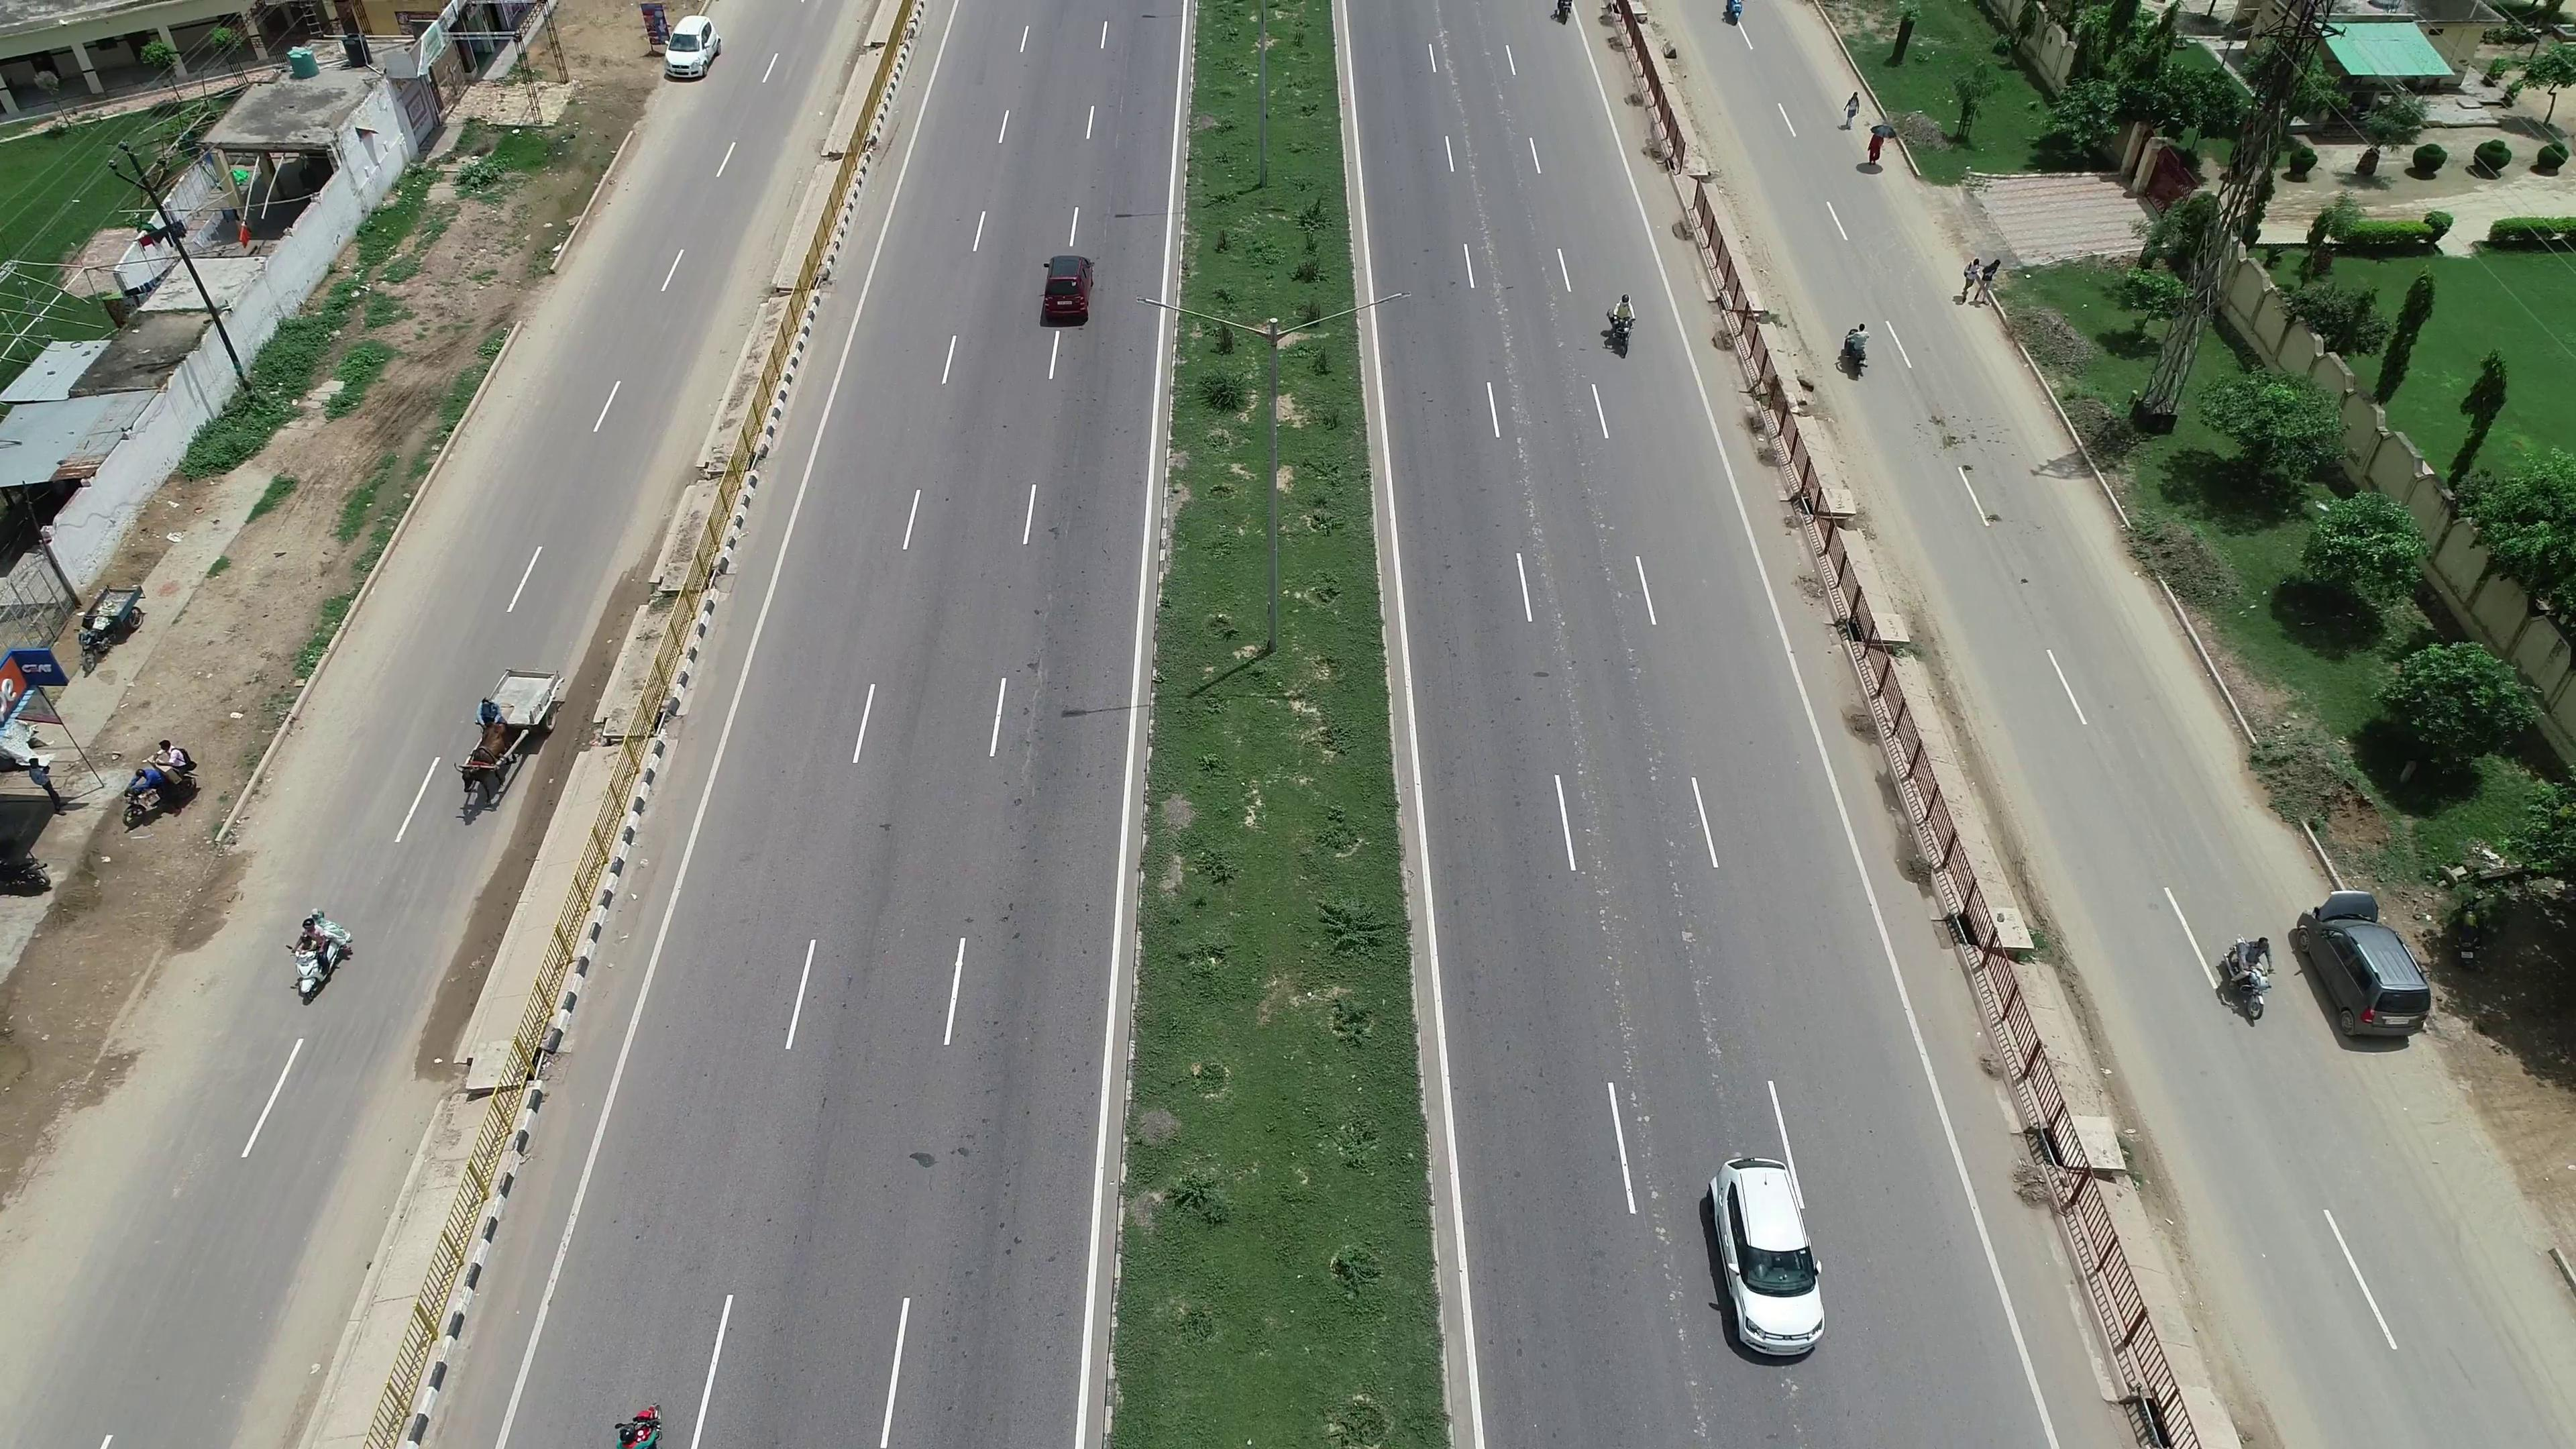Ravelling: (1562, 663, 1621, 962), (1461, 150, 1518, 375), (1511, 398, 1562, 602)
